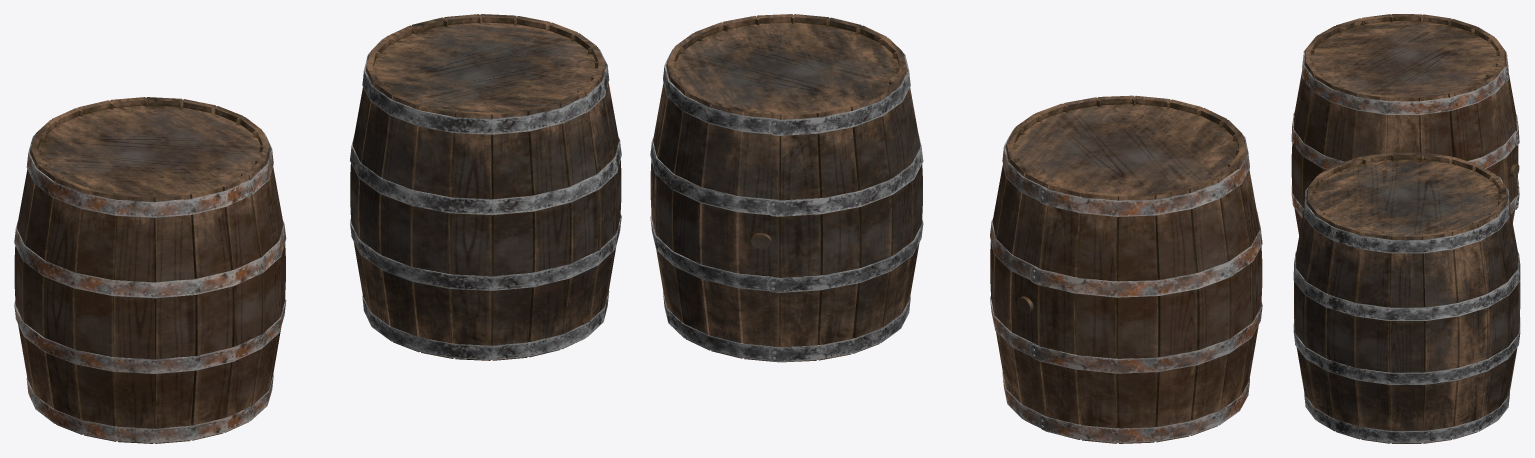
Rendered from beczki1.gltf.
The picture shows the model from 3 angles, left to right: view 1: azimuth 30°, elevation 25°; view 2: azimuth 150°, elevation 25°; view 3: azimuth 270°, elevation 25°; orthographic projection. The views are drawn at different scales.
Parts seen in each view (by area): view 1: medieval_barrels; view 2: medieval_barrels; view 3: medieval_barrels.
Boxes of the visible parts, box(x1,y1,x2,y2) form: medieval_barrels: box(14, 14, 621, 443); medieval_barrels: box(650, 14, 1262, 443); medieval_barrels: box(1291, 14, 1520, 443).
Size of the model in its own units: 3.22 by 1.33 by 1.33.
2 materials, 2 textured.
